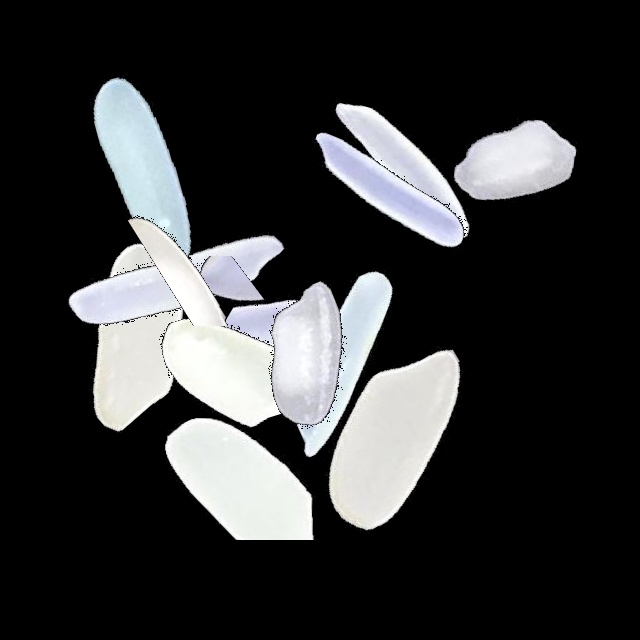Broken: (118, 373, 368, 540), (212, 238, 358, 488), (99, 215, 349, 326), (80, 256, 330, 364), (495, 114, 571, 364)
Full: (275, 313, 525, 563), (3, 210, 253, 460), (389, 34, 639, 284), (51, 150, 301, 400), (276, 42, 526, 292), (114, 242, 364, 492), (219, 238, 469, 488), (261, 66, 511, 316), (18, 44, 268, 294), (181, 231, 431, 481)
